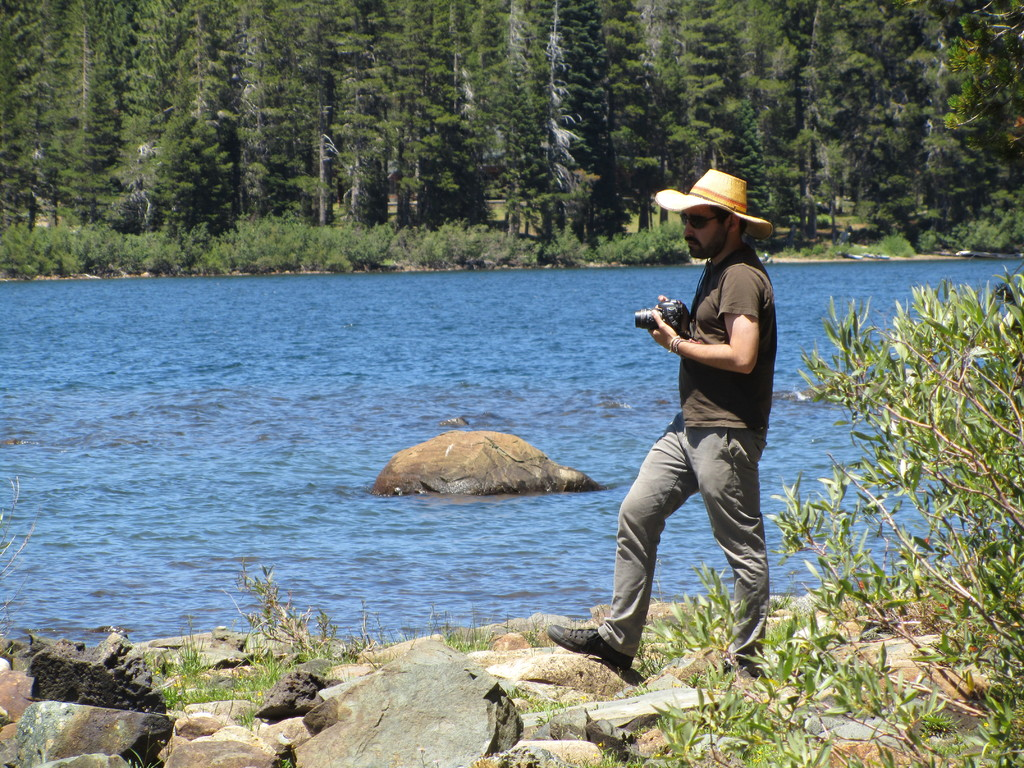Person: (545, 167, 779, 676)
